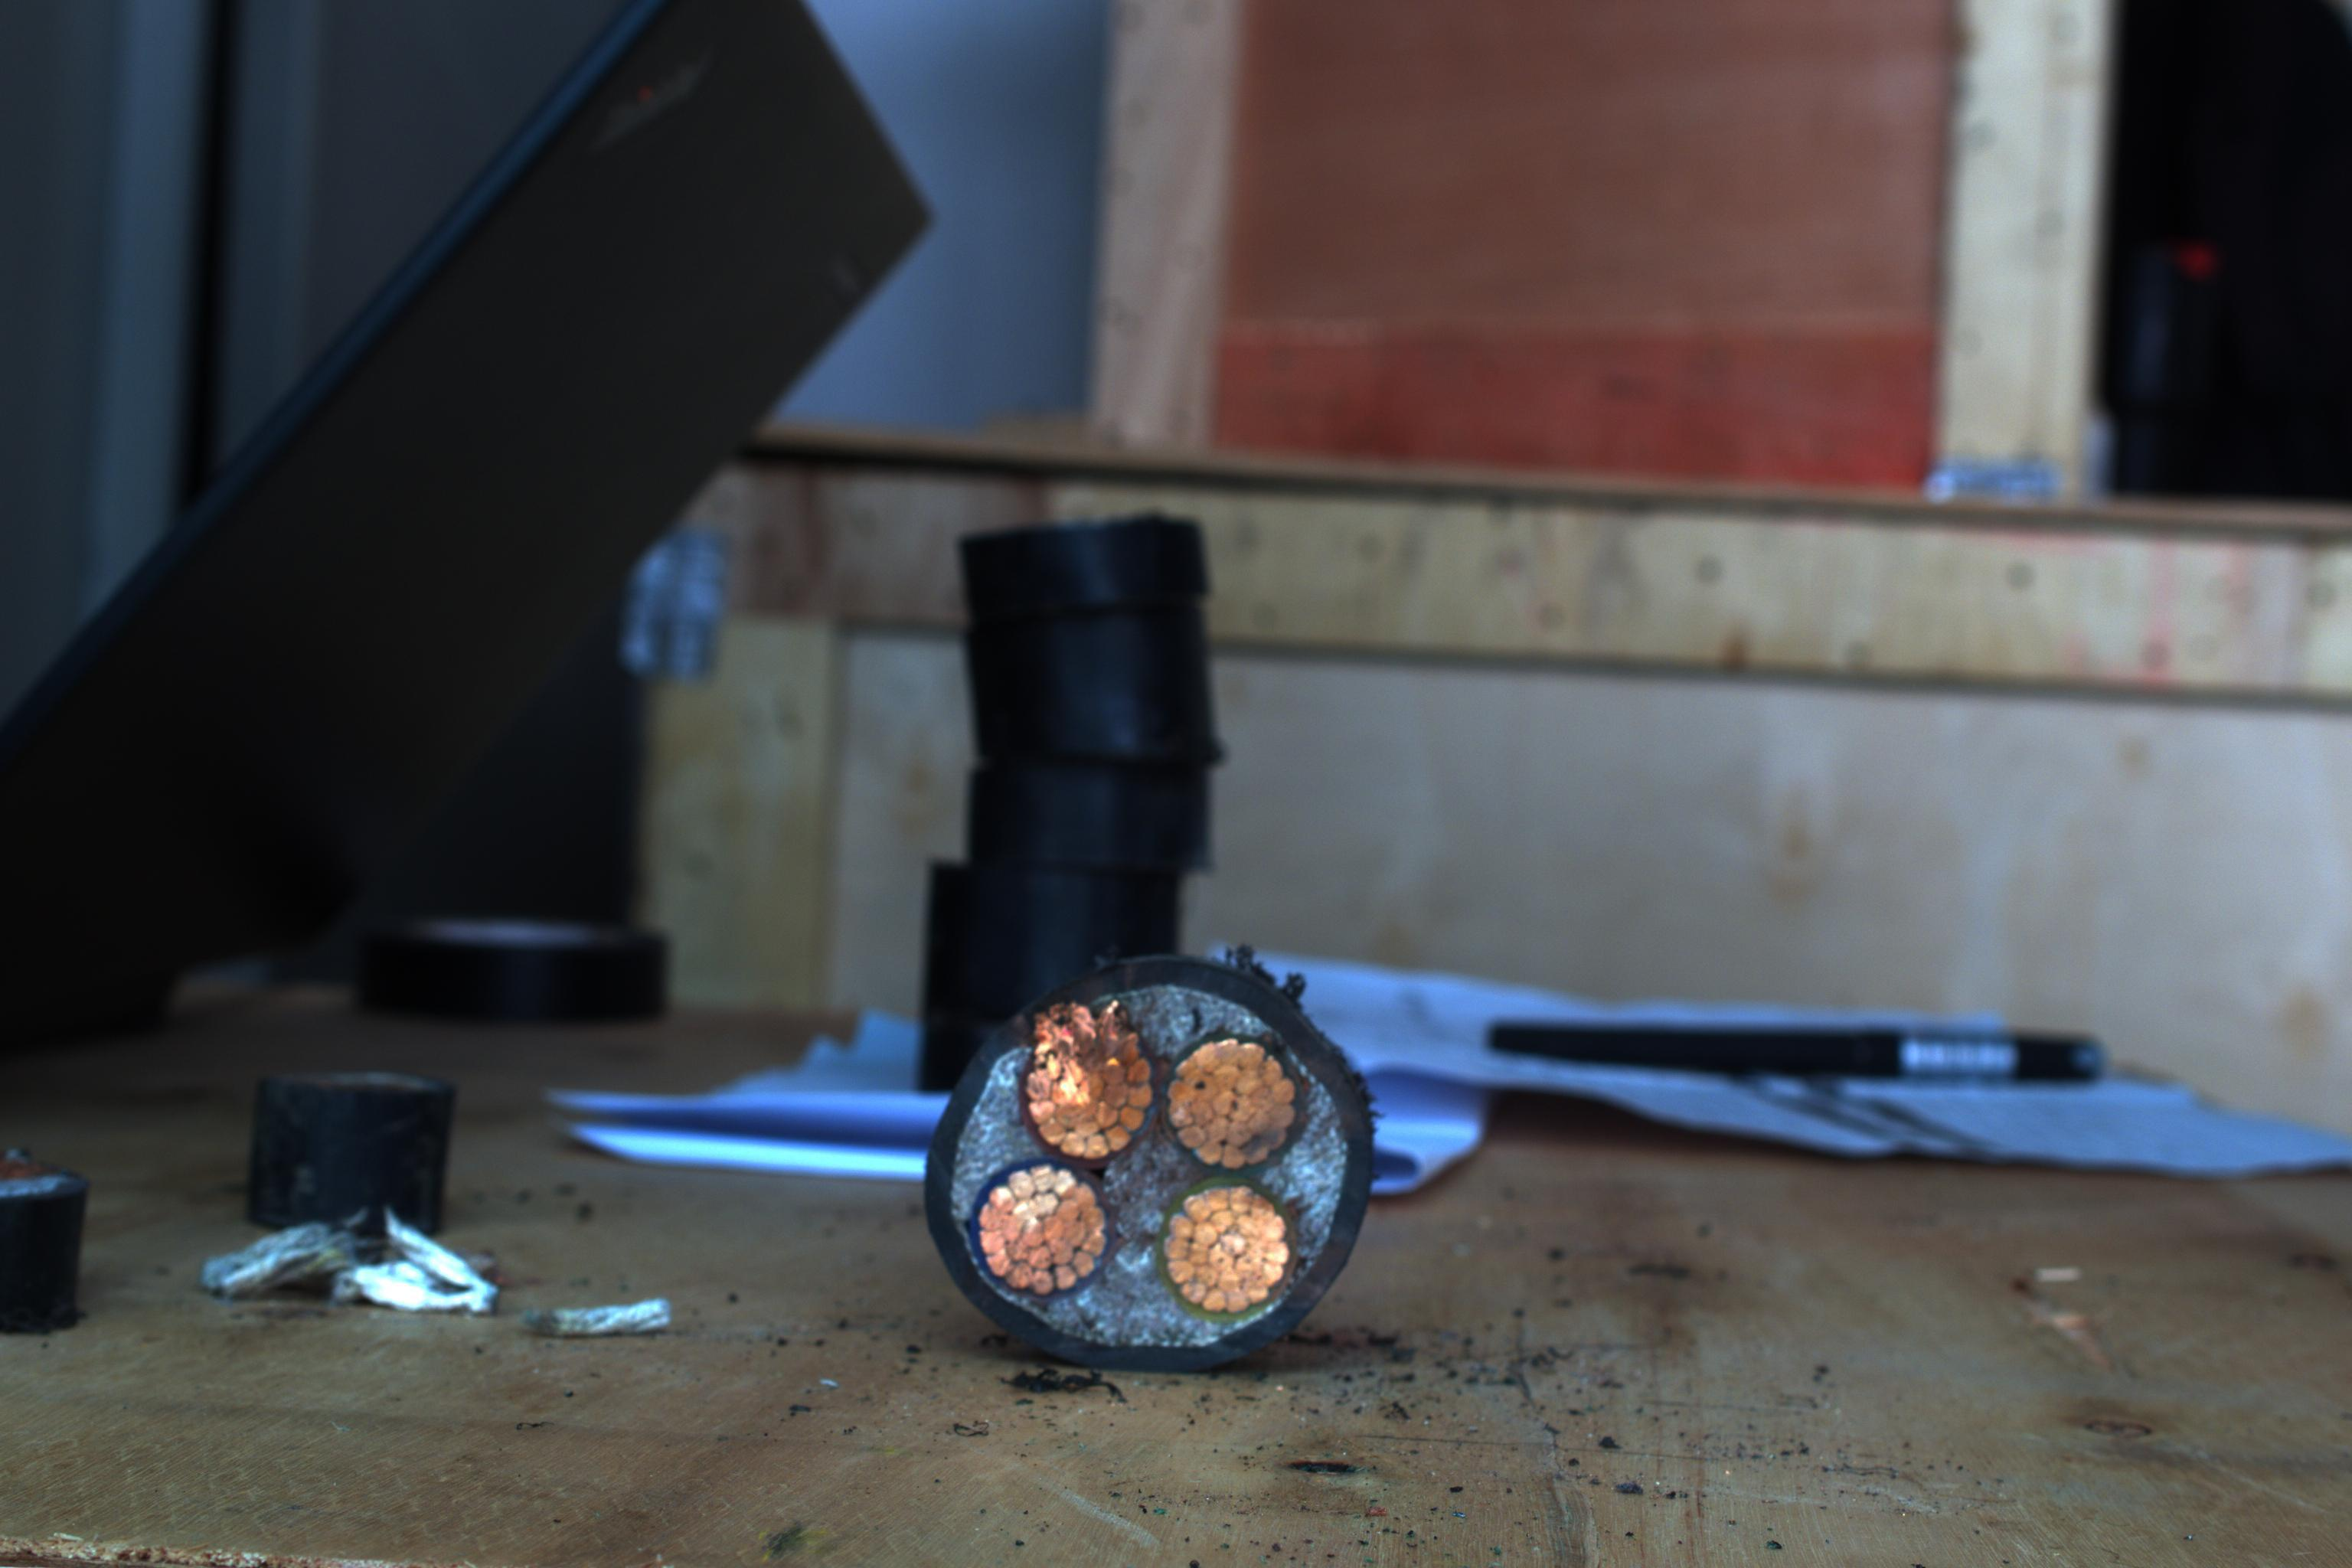YJV_0.6_1kV_4x120: (938, 966, 1370, 1368)
